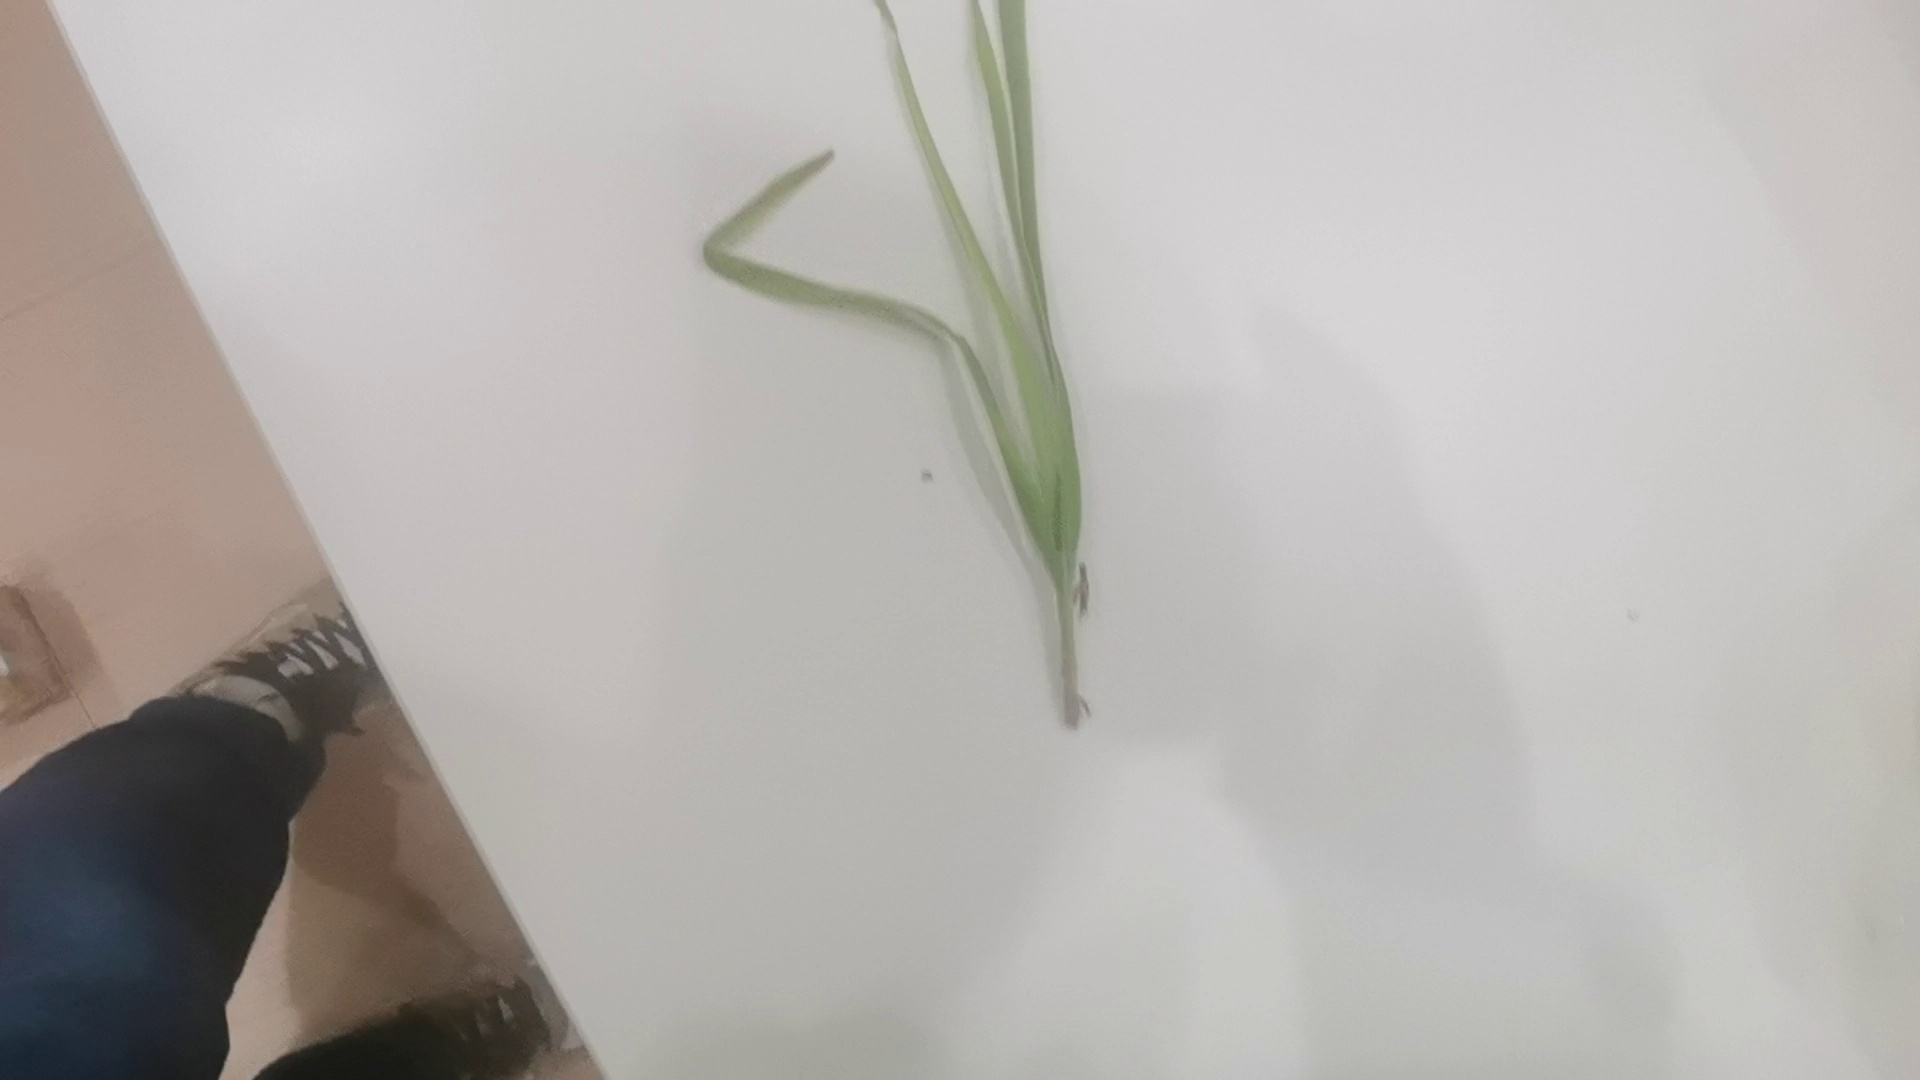chives: (683, 3, 1092, 733)
